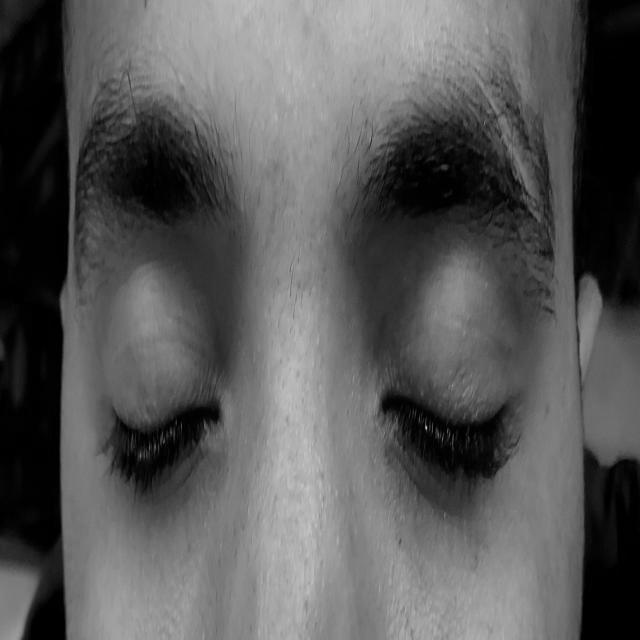real: (76, 138, 552, 562)
